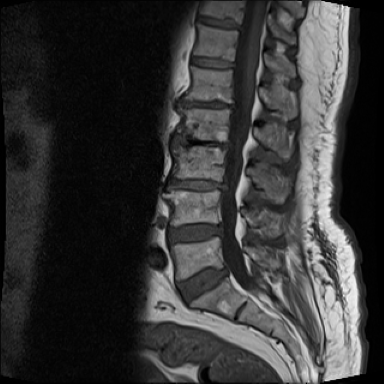Degenerative Disc Disease (DDD): (169, 132, 241, 155), (177, 93, 246, 113), (191, 13, 247, 34), (183, 53, 238, 73)
Lumbar Disc Bulge (LDB): (172, 259, 236, 312), (163, 215, 228, 251), (163, 171, 234, 197)
Spinal Stenosis (SS): (214, 170, 232, 197), (219, 135, 240, 156), (222, 94, 241, 116), (212, 217, 228, 242), (219, 259, 232, 282), (234, 20, 248, 37)
